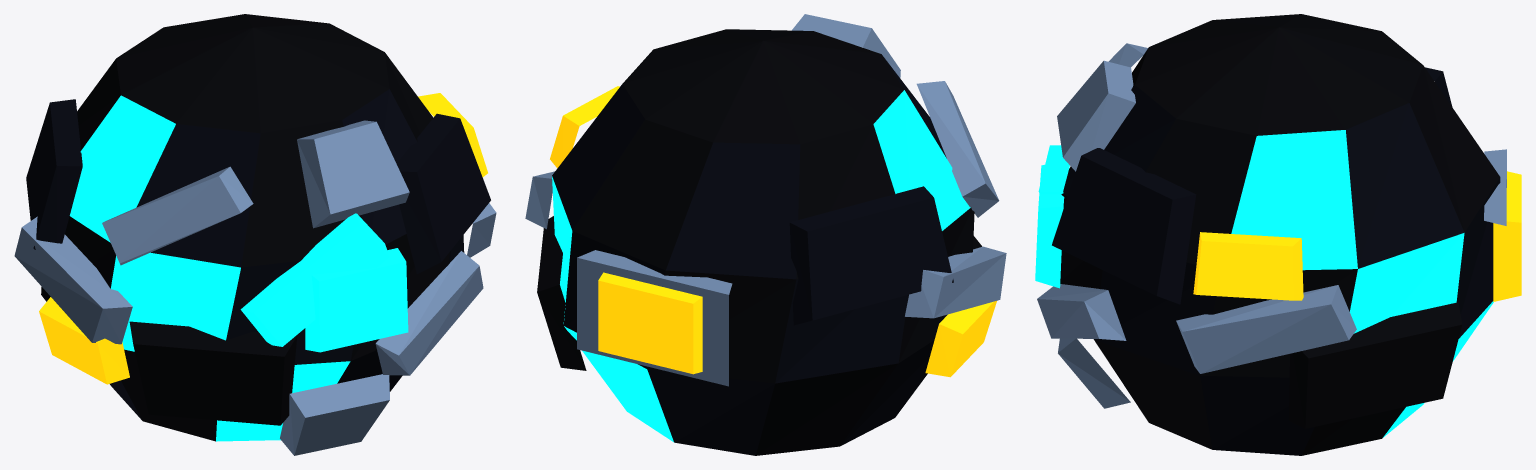
The model's file is SM_Chassis_Trickster_01.glb.
3 views of the same model, side by side, from view 1: azimuth 30°, elevation 25°; view 2: azimuth 150°, elevation 25°; view 3: azimuth 270°, elevation 25° (orthographic). The views are drawn at different scales.
Parts seen in each view (by area): view 1: Part_MAT_DarkNeutral, Part_MAT_LightTrim, Part_EMI_Cyan, Part_MAT_AltNeutral, Part_EMI_Kinetic; view 2: Part_MAT_DarkNeutral, Part_MAT_AltNeutral, Part_MAT_LightTrim, Part_EMI_Kinetic, Part_EMI_Cyan; view 3: Part_MAT_DarkNeutral, Part_MAT_AltNeutral, Part_EMI_Cyan, Part_MAT_LightTrim, Part_EMI_Kinetic.
Boxes of the visible parts, x1,y1,x2,y2 form: Part_MAT_DarkNeutral: (41,14,449,441); Part_MAT_LightTrim: (14,120,496,455); Part_EMI_Cyan: (69,95,408,441); Part_MAT_AltNeutral: (26,89,490,419); Part_EMI_Kinetic: (39,93,487,384); Part_MAT_DarkNeutral: (537,29,981,455); Part_MAT_AltNeutral: (552,55,953,455); Part_MAT_LightTrim: (525,14,1006,386); Part_EMI_Kinetic: (550,86,996,377); Part_EMI_Cyan: (552,90,970,442); Part_MAT_DarkNeutral: (1060,14,1499,455); Part_MAT_AltNeutral: (1052,67,1500,455); Part_EMI_Cyan: (1035,130,1493,437); Part_MAT_LightTrim: (1037,43,1506,408); Part_EMI_Kinetic: (1193,171,1521,301).
Size of the model in its own units: 5.73 by 5.32 by 5.65.
5 materials, 5 textured.
